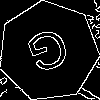G: (23, 26, 76, 83)
